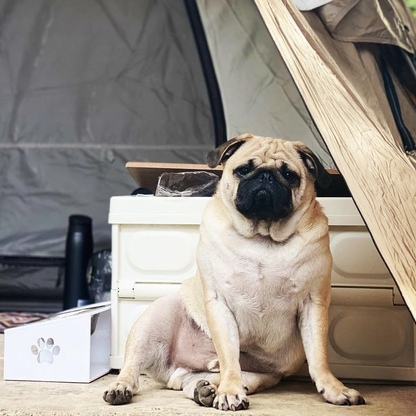Pug: (98, 123, 371, 415)
